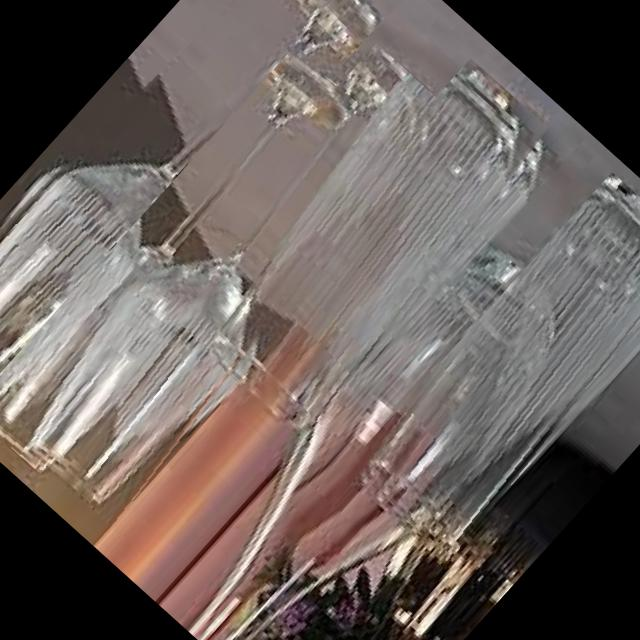Glass: (18, 42, 470, 524), (0, 43, 379, 483), (0, 0, 386, 428), (202, 56, 574, 447), (341, 170, 640, 564)
